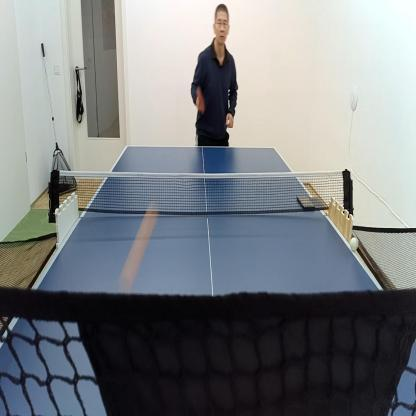Ball: (118, 198, 161, 294), (350, 236, 360, 253)
